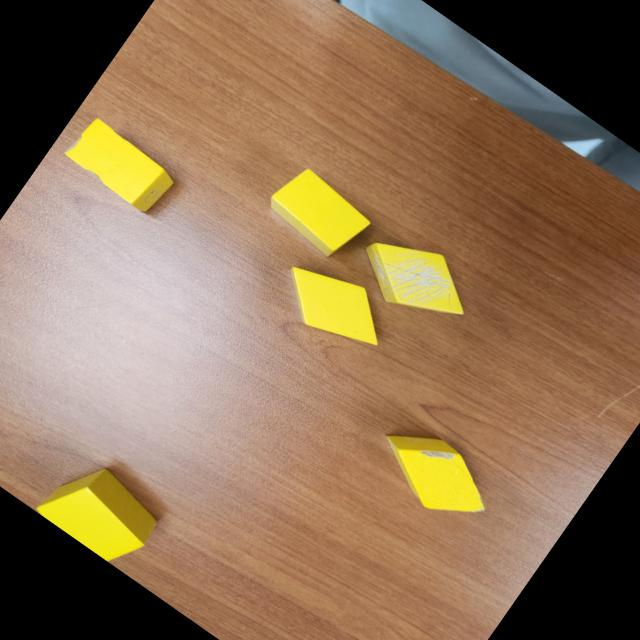broken: (344, 215, 487, 345), (363, 410, 506, 538), (57, 110, 182, 220)
yellow: (31, 446, 170, 575), (264, 244, 401, 368), (260, 159, 376, 267)
